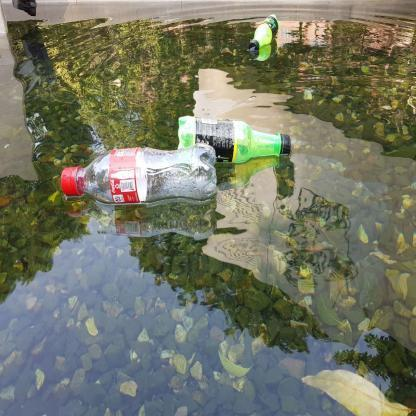plastic bottle: (59, 146, 216, 203), (177, 113, 292, 162), (249, 13, 278, 50)
